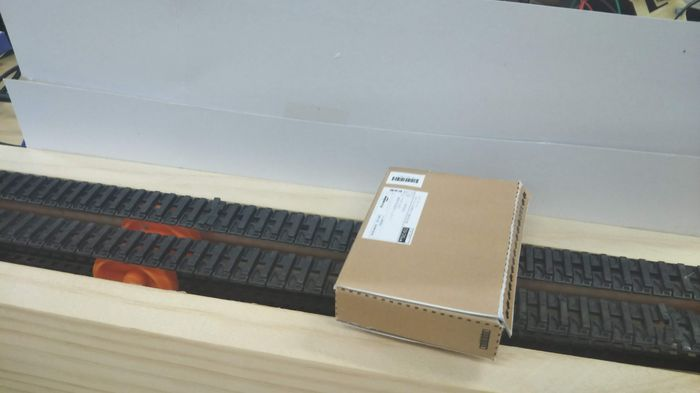box2: (330, 163, 525, 360)
